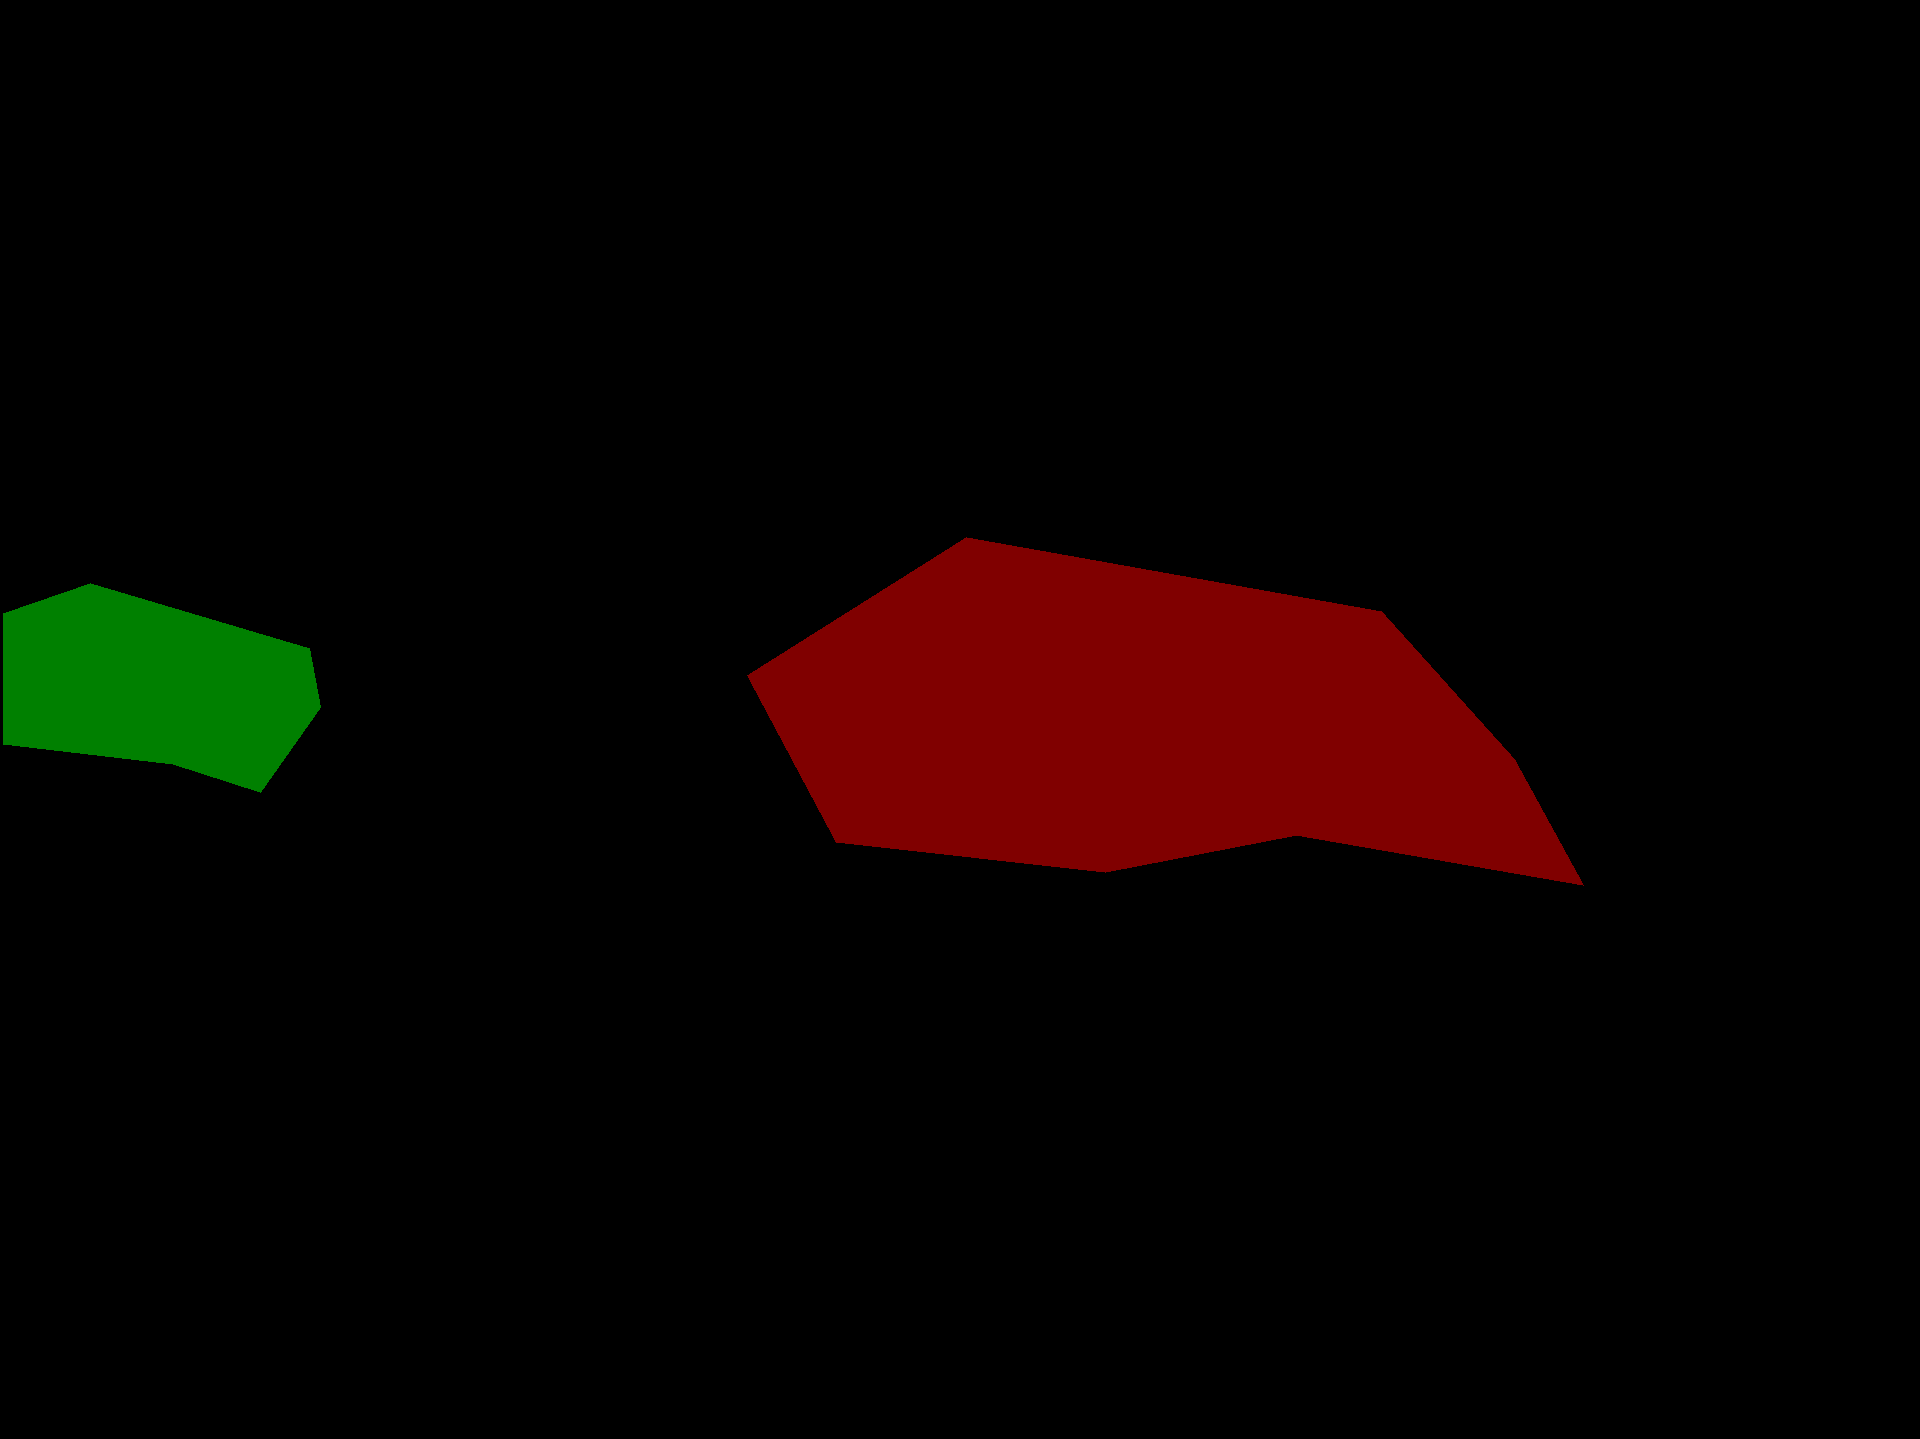fire: (747, 537, 1583, 884), (3, 583, 321, 792)
